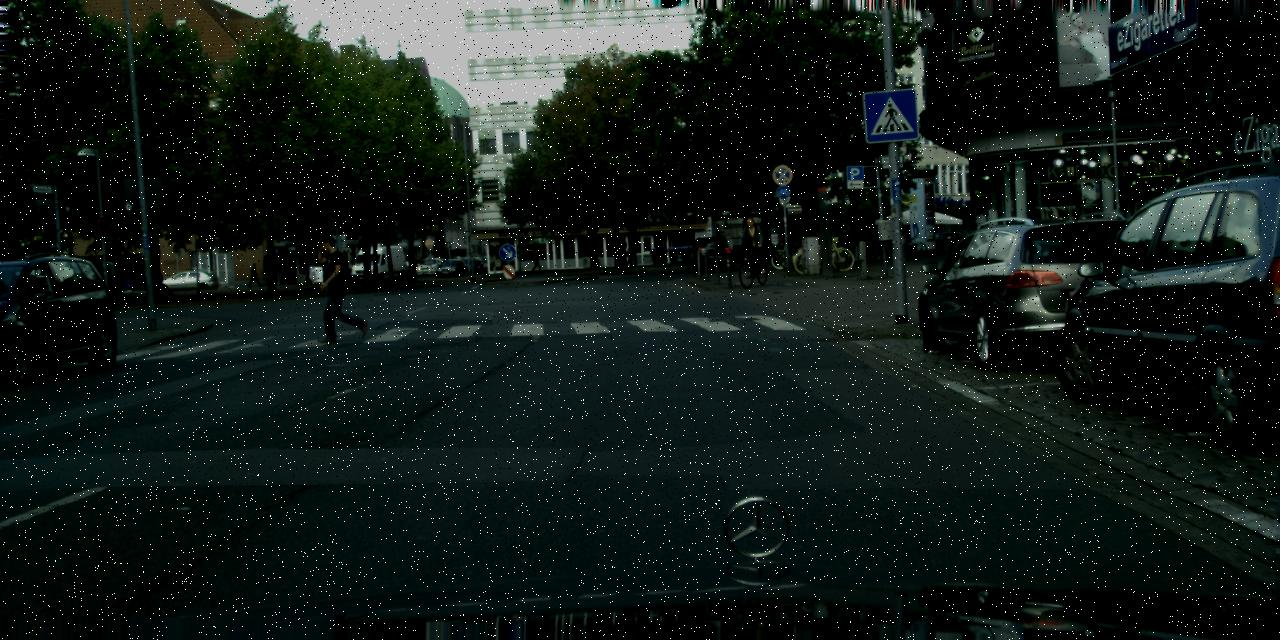ped: (317, 236, 358, 338), (741, 216, 764, 272), (262, 246, 280, 290), (841, 218, 856, 258), (617, 234, 629, 266), (249, 262, 259, 287), (122, 267, 132, 291), (532, 250, 540, 270), (294, 265, 302, 283), (627, 245, 633, 262), (427, 250, 433, 266)
